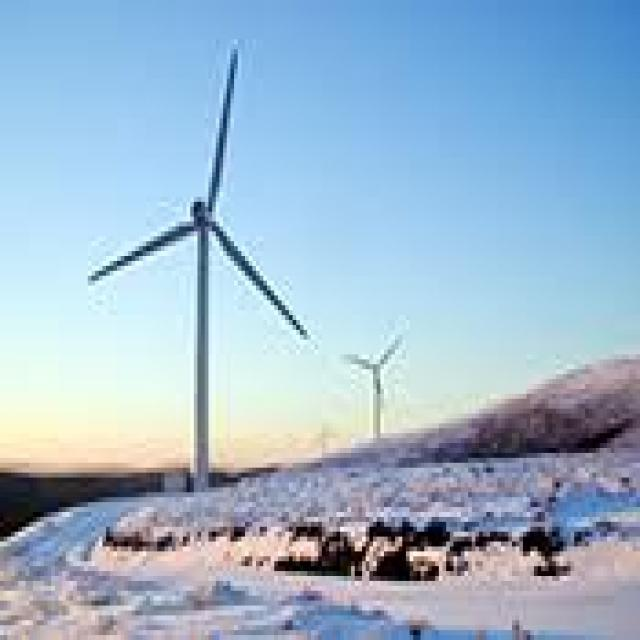wind-turbine: (87, 49, 309, 489)
